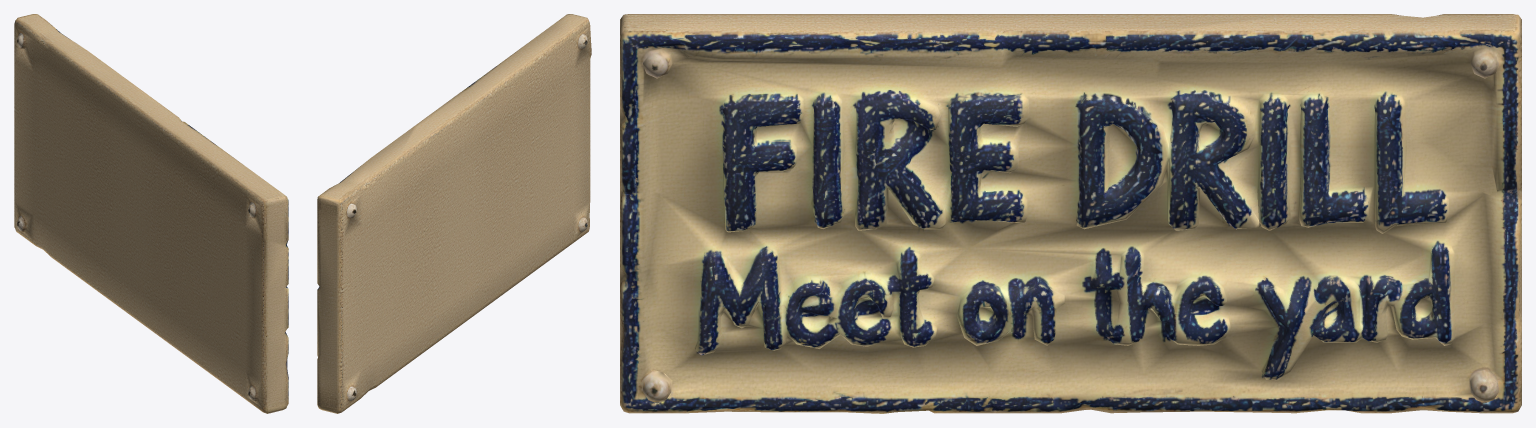
File: FireDrillPlaque.fbx
3 views of the same model, side by side, from view 1: azimuth 30°, elevation 25°; view 2: azimuth 150°, elevation 25°; view 3: azimuth 270°, elevation 25° (orthographic). The views are drawn at different scales.
Visible parts, largest first — view 1: tripo_node_9dcfdd1d-f784-4043-8474-3945dd48561f; view 2: tripo_node_9dcfdd1d-f784-4043-8474-3945dd48561f; view 3: tripo_node_9dcfdd1d-f784-4043-8474-3945dd48561f.
Part boxes in pixels (x1,y1,x2,y2): tripo_node_9dcfdd1d-f784-4043-8474-3945dd48561f: (14,14,288,413); tripo_node_9dcfdd1d-f784-4043-8474-3945dd48561f: (317,14,591,413); tripo_node_9dcfdd1d-f784-4043-8474-3945dd48561f: (620,14,1521,413).
Size of the model in its own units: 8.61 by 46.77 by 100.
Materials: 1 (1 with a texture image).
